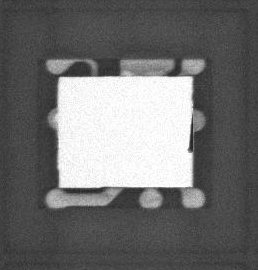DIE_BROKEN: (186, 118, 194, 154)
